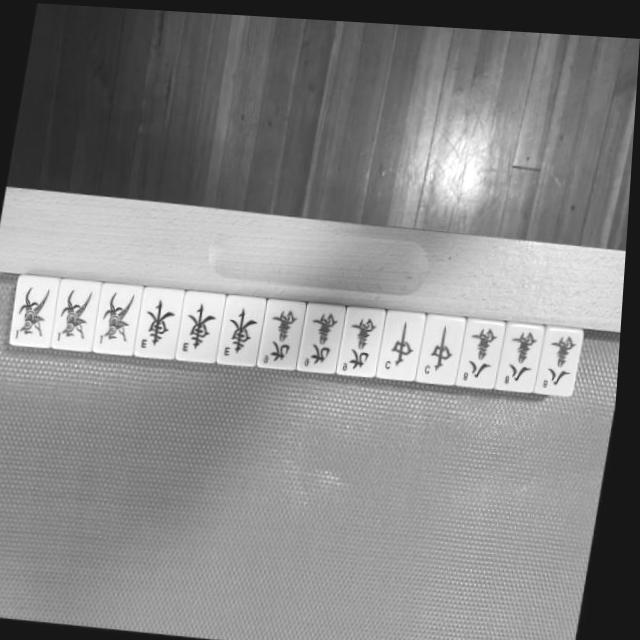hdr: (419, 310, 467, 384), (379, 309, 426, 380)
hwe: (218, 292, 269, 366), (137, 284, 187, 358), (178, 287, 227, 362)
sb1: (94, 282, 145, 356), (11, 273, 60, 349), (54, 278, 101, 352)
sc8: (458, 315, 507, 387), (539, 323, 584, 395), (499, 320, 545, 390)
sc9: (259, 294, 308, 370), (299, 300, 349, 371), (339, 305, 387, 376)
